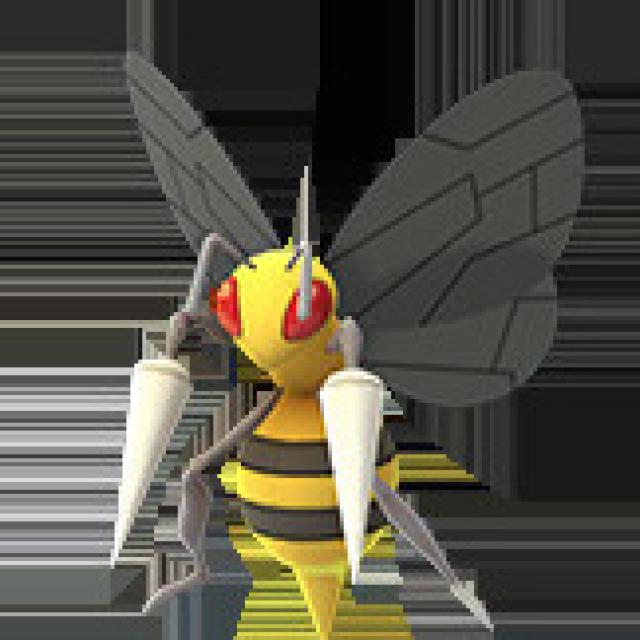Beedrill: (96, 167, 501, 636)
